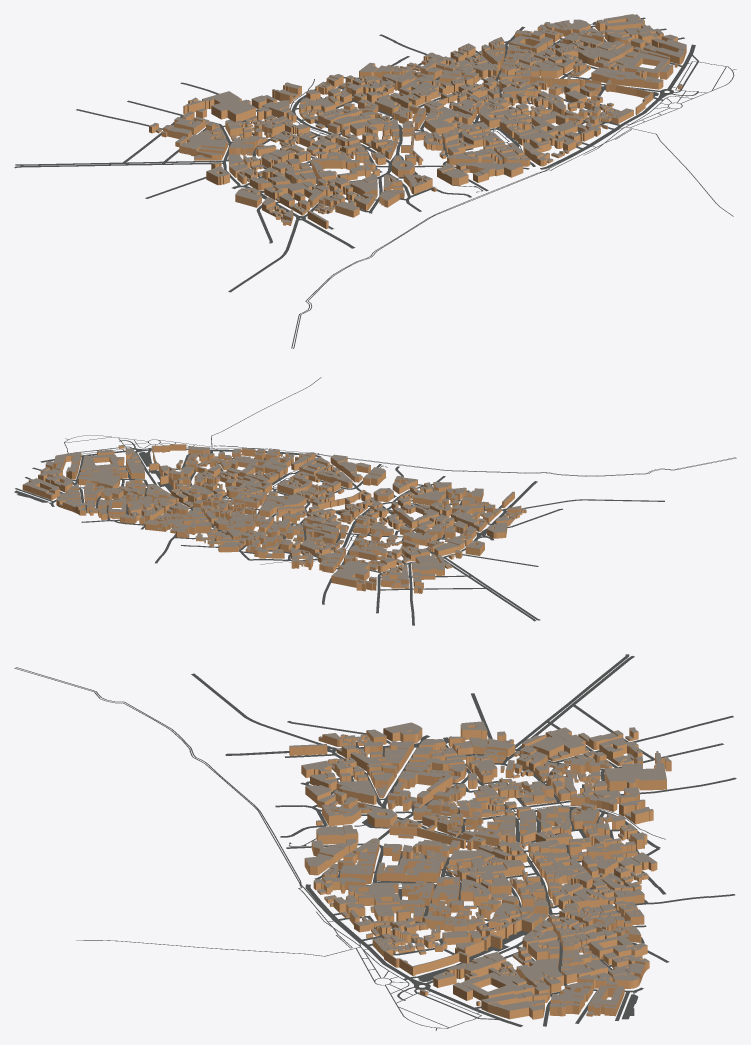
The model's file is map.fbx.
3 renders of one model, top to bottom at view 1: azimuth 30°, elevation 25°; view 2: azimuth 150°, elevation 25°; view 3: azimuth 270°, elevation 25°, orthographic. The views are drawn at different scales.
Parts seen in each view (by area): view 1: map_3.osm_buildings, map_3.osm_roads_residential, map_3.osm_paths_footway, map_3.osm_roads_primary, map_3.osm_roads_tertiary; view 2: map_3.osm_buildings, map_3.osm_roads_residential, map_3.osm_paths_footway, map_3.osm_roads_primary, map_3.osm_roads_tertiary, map_3.osm_paths_cycleway; view 3: map_3.osm_buildings, map_3.osm_roads_residential, map_3.osm_paths_footway, map_3.osm_roads_primary, map_3.osm_roads_tertiary, map_3.osm_areas_pedestrian, map_3.osm_paths_cycleway.
Part boxes in pixels (bbox=[...]): map_3.osm_buildings: bbox=[149, 14, 686, 229]; map_3.osm_roads_residential: bbox=[76, 17, 684, 292]; map_3.osm_paths_footway: bbox=[290, 24, 736, 348]; map_3.osm_roads_primary: bbox=[232, 44, 695, 248]; map_3.osm_roads_tertiary: bbox=[14, 160, 224, 168]; map_3.osm_buildings: bbox=[22, 444, 526, 593]; map_3.osm_roads_residential: bbox=[15, 450, 664, 625]; map_3.osm_paths_footway: bbox=[48, 377, 735, 564]; map_3.osm_roads_primary: bbox=[40, 448, 537, 540]; map_3.osm_roads_tertiary: bbox=[444, 557, 540, 621]; map_3.osm_paths_cycleway: bbox=[217, 449, 736, 476]; map_3.osm_buildings: bbox=[289, 721, 671, 1019]; map_3.osm_roads_residential: bbox=[191, 673, 736, 1026]; map_3.osm_paths_footway: bbox=[14, 668, 665, 1030]; map_3.osm_roads_primary: bbox=[225, 735, 522, 1026]; map_3.osm_roads_tertiary: bbox=[515, 654, 634, 750]; map_3.osm_areas_pedestrian: bbox=[289, 819, 638, 1019]; map_3.osm_paths_cycleway: bbox=[15, 667, 359, 943].
Size of the model in its own units: 160118 by 2198 by 130012.
